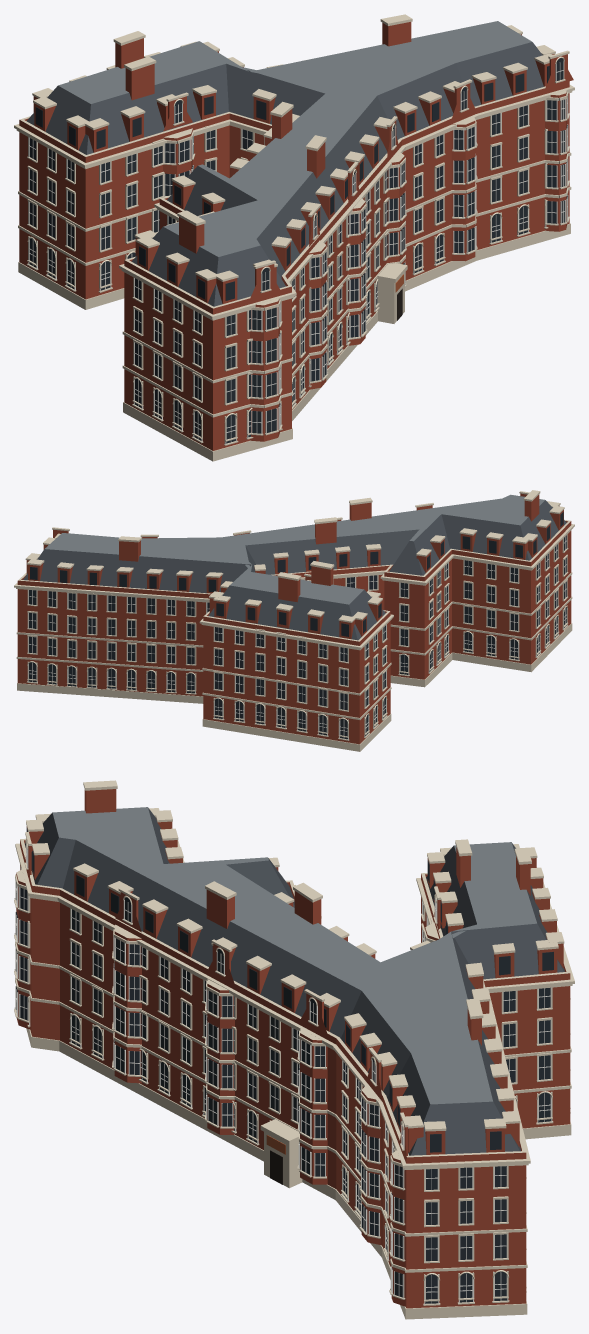
The model's file is queen_alexandras_house.glb.
3 renders of one model, top to bottom at view 1: azimuth 30°, elevation 25°; view 2: azimuth 150°, elevation 25°; view 3: azimuth 270°, elevation 25°, orthographic. The views are drawn at different scales.
Size of the model in its own units: 58.8 by 24.95 by 47.82.
